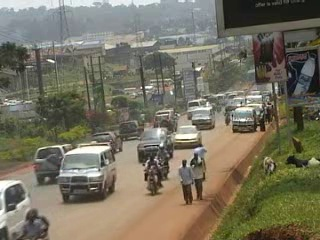Car: (30, 139, 74, 185), (134, 125, 176, 164), (170, 121, 203, 149), (90, 130, 124, 154), (117, 117, 145, 140), (151, 111, 177, 132), (225, 95, 234, 112)
Motorcycle: (11, 206, 55, 239), (139, 152, 164, 197), (155, 141, 173, 181), (221, 107, 233, 127)
